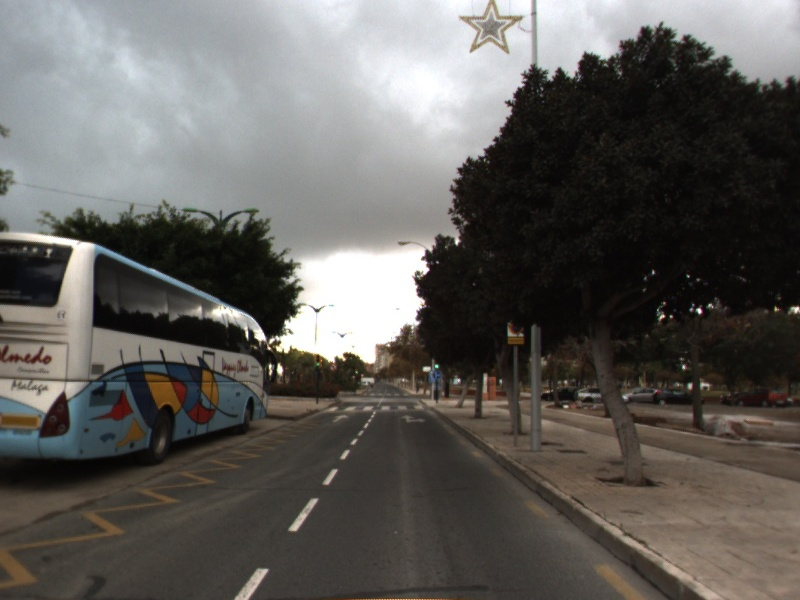STRAIGHT: (329, 413, 352, 425)
STRAIGHT_RIGHT: (399, 412, 430, 426)
